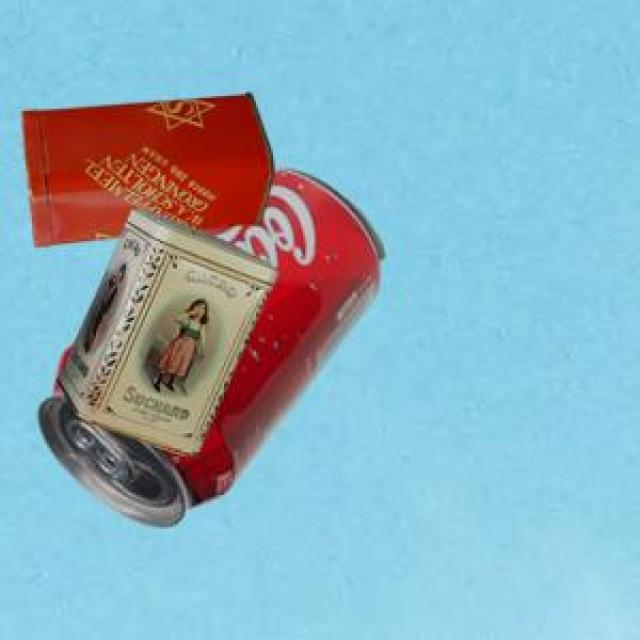Can: (35, 165, 381, 524), (54, 206, 274, 453), (18, 92, 270, 244)
